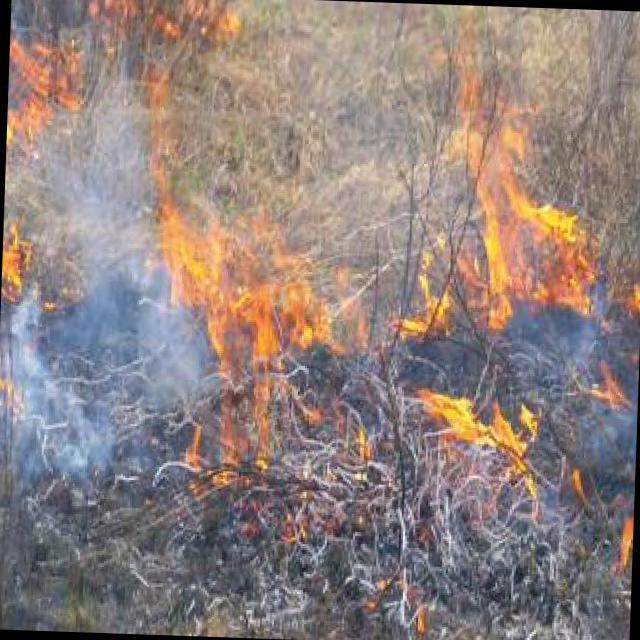Fire: (138, 153, 336, 474), (423, 41, 600, 332), (5, 0, 243, 160), (420, 364, 550, 504), (379, 264, 456, 345)
Smoke: (0, 148, 211, 484)
